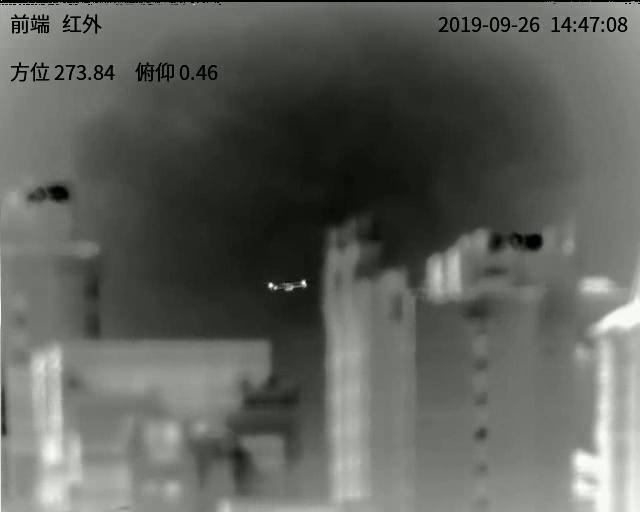DRONE: (264, 278, 309, 292)
